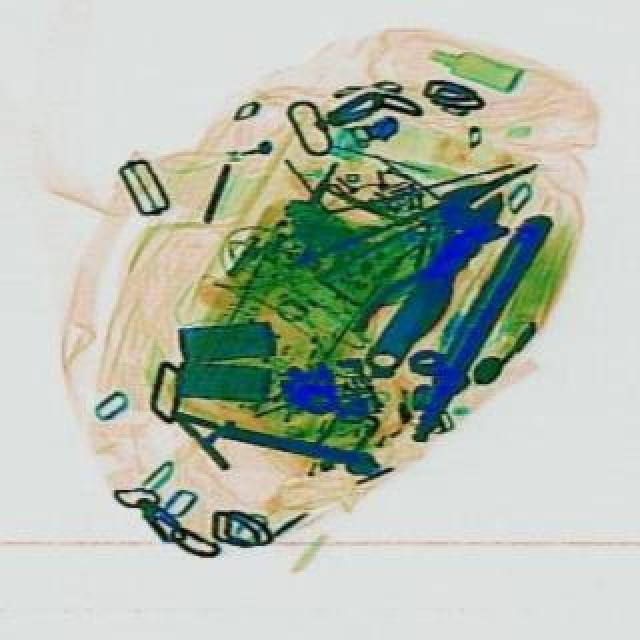scissors: (344, 172, 510, 388)
wrench: (282, 154, 538, 296), (344, 214, 498, 370)
